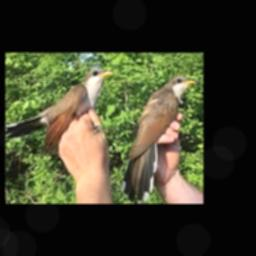Cuckoo: (5, 68, 113, 157), (123, 76, 196, 202)
